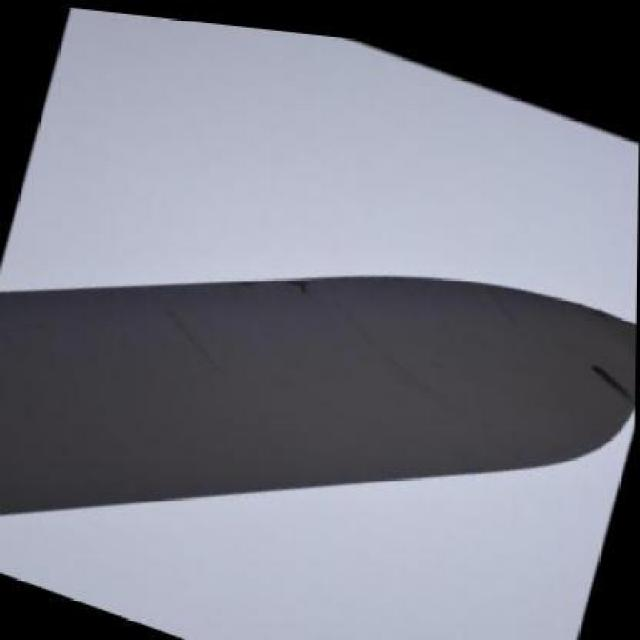Burn Mark: (586, 361, 634, 404)
Coating_defects: (266, 263, 322, 292)
